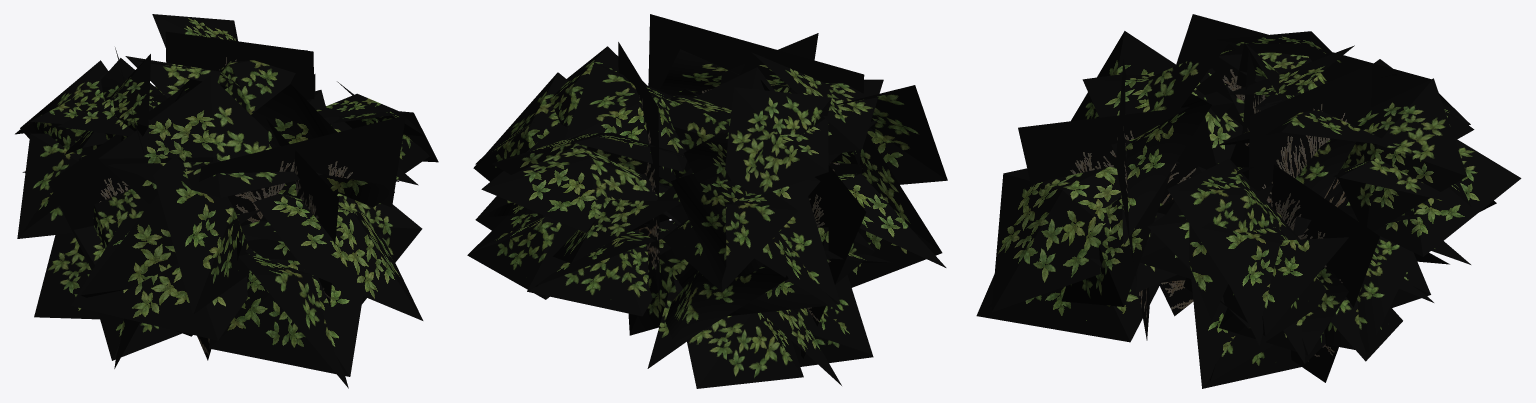
Rendered from bg_anh_foliage_te_b50_sm_old.FBX.
3 renders of one model, left to right at view 1: azimuth 30°, elevation 25°; view 2: azimuth 150°, elevation 25°; view 3: azimuth 270°, elevation 25°, orthographic. The views are drawn at different scales.
Visible parts, largest first — view 1: bg_anh_foliage_te_b50_sm_old; view 2: bg_anh_foliage_te_b50_sm_old; view 3: bg_anh_foliage_te_b50_sm_old.
Part boxes in pixels (x1,y1,x2,y2): bg_anh_foliage_te_b50_sm_old: [15, 14, 438, 388]; bg_anh_foliage_te_b50_sm_old: [467, 14, 947, 388]; bg_anh_foliage_te_b50_sm_old: [976, 14, 1521, 388].
Bounding box in the file's own units: 317 × 198 × 337.
